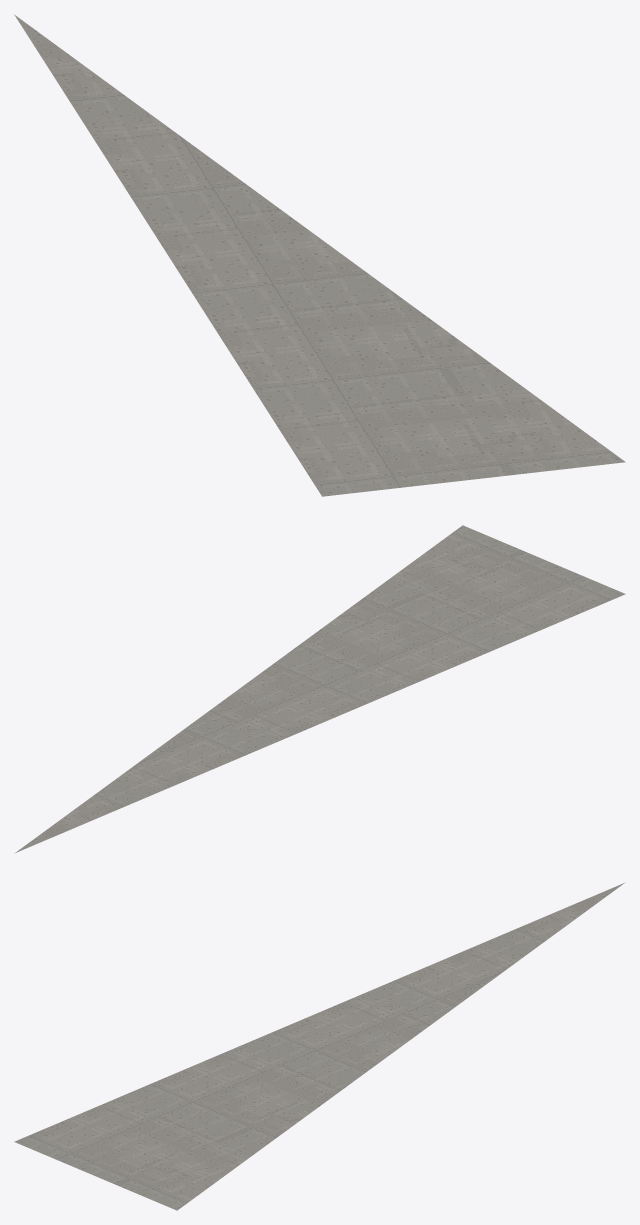
File: kd_stage_1364a3_4_21_bounded.glb
3 views of the same model, one above another, from view 1: azimuth 30°, elevation 25°; view 2: azimuth 150°, elevation 25°; view 3: azimuth 330°, elevation 25° (orthographic). The views are drawn at different scales.
Visible parts, largest first — view 1: kd_stage_1364a3_4_21_bounded; view 2: kd_stage_1364a3_4_21_bounded; view 3: kd_stage_1364a3_4_21_bounded.
Boxes of the visible parts, bbox=[...] form: kd_stage_1364a3_4_21_bounded: bbox=[14, 14, 625, 496]; kd_stage_1364a3_4_21_bounded: bbox=[14, 525, 625, 853]; kd_stage_1364a3_4_21_bounded: bbox=[14, 882, 625, 1210].
Size of the model in its own units: 4.24 by 7.15e-07 by 17.08.
Materials: 1 (1 with a texture image).
